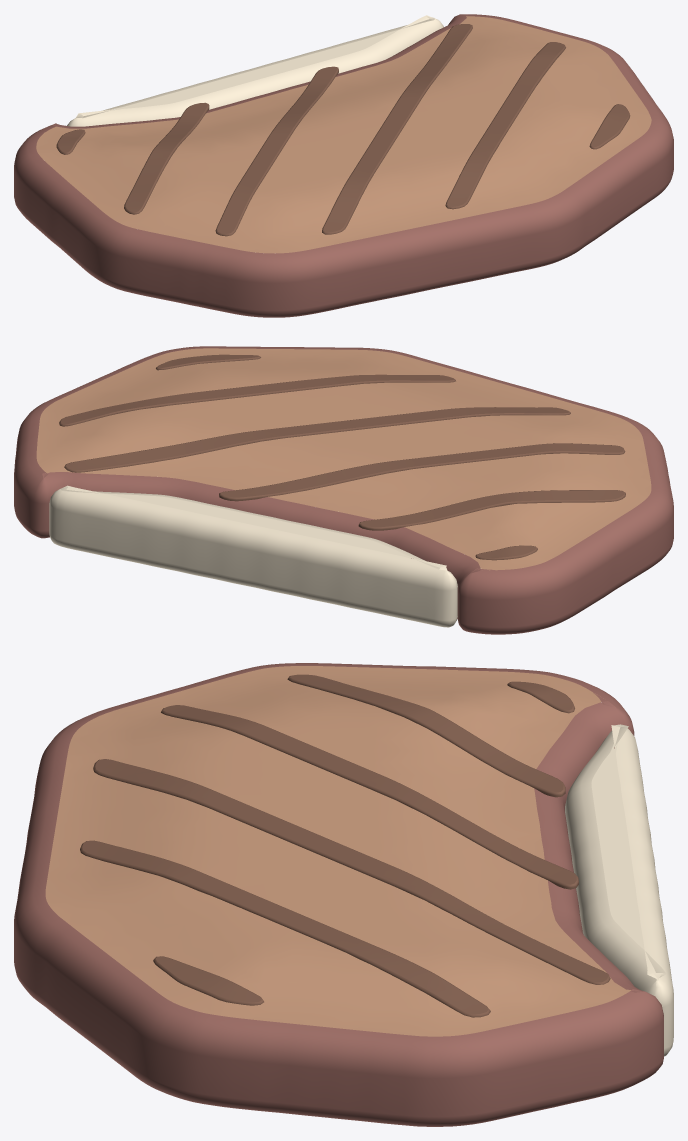
File: PrimeCutStrip.glb
3 views of the same model, one above another, from view 1: azimuth 30°, elevation 25°; view 2: azimuth 150°, elevation 25°; view 3: azimuth 270°, elevation 25° (orthographic). The views are drawn at different scales.
Visible parts, largest first — view 1: Meat, Crust, Marks, Fat; view 2: Meat, Crust, Fat, Marks; view 3: Meat, Crust, Marks, Fat.
Boxes of the visible parts, left/top/right/bottom form: Meat: left=36, top=16, right=651, bottom=253; Crust: left=14, top=14, right=673, bottom=317; Marks: left=56, top=24, right=630, bottom=236; Fat: left=67, top=15, right=443, bottom=126; Meat: left=36, top=348, right=651, bottom=570; Crust: left=14, top=346, right=673, bottom=634; Fat: left=49, top=485, right=457, bottom=627; Marks: left=59, top=354, right=625, bottom=560; Meat: left=45, top=666, right=630, bottom=1036; Crust: left=14, top=663, right=663, bottom=1126; Marks: left=80, top=674, right=610, bottom=1017; Fat: left=565, top=724, right=673, bottom=1056.
Bounding box in the file's own units: 14.91 × 1.77 × 10.47.
